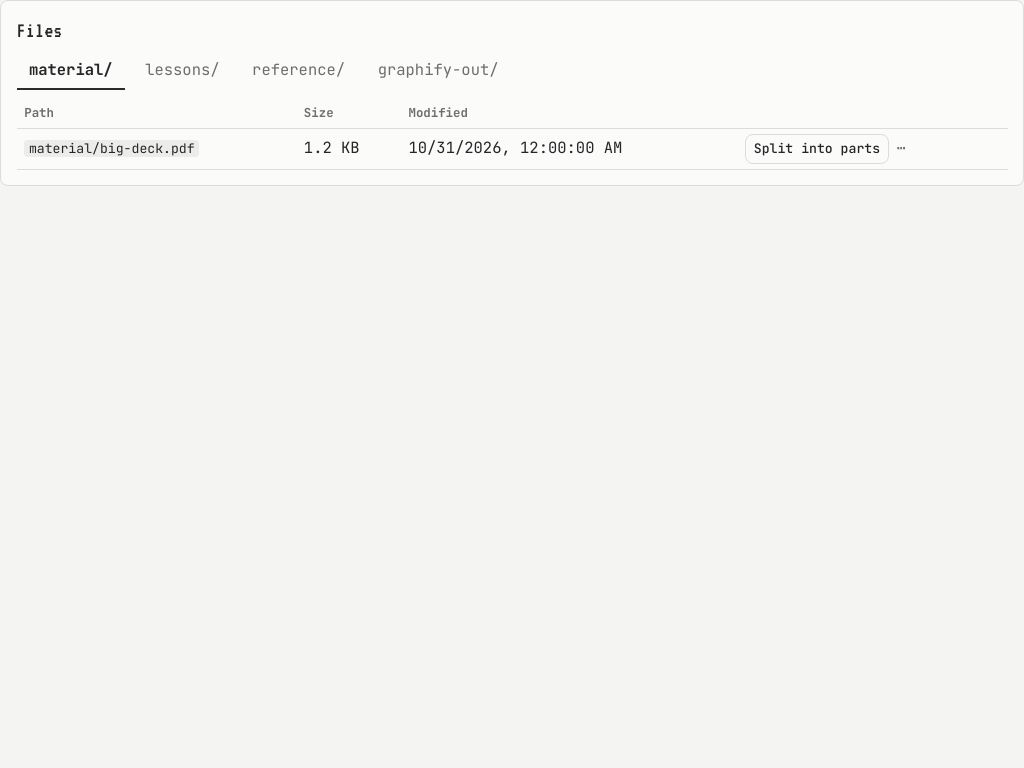
FileBrowser split action › surfaces split failures as an error banner
Click the button "Split into parts".
click(817, 149)  # box [745, 134, 889, 164]
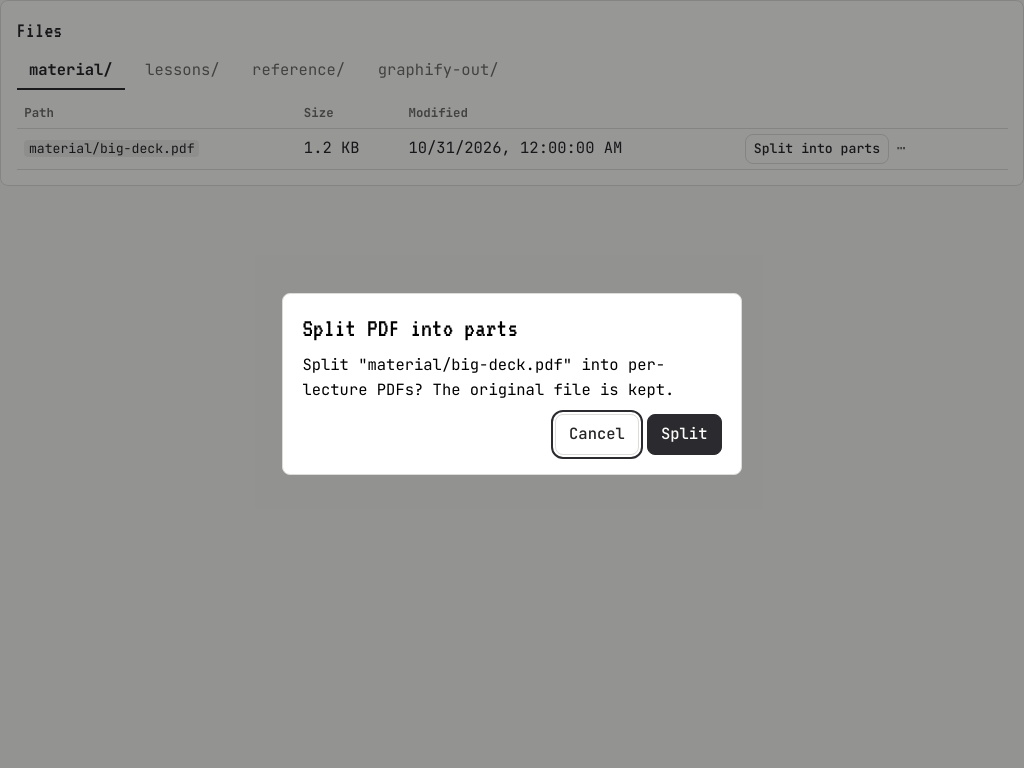
Click the button "Split".
click(684, 434)  # box [647, 414, 722, 455]
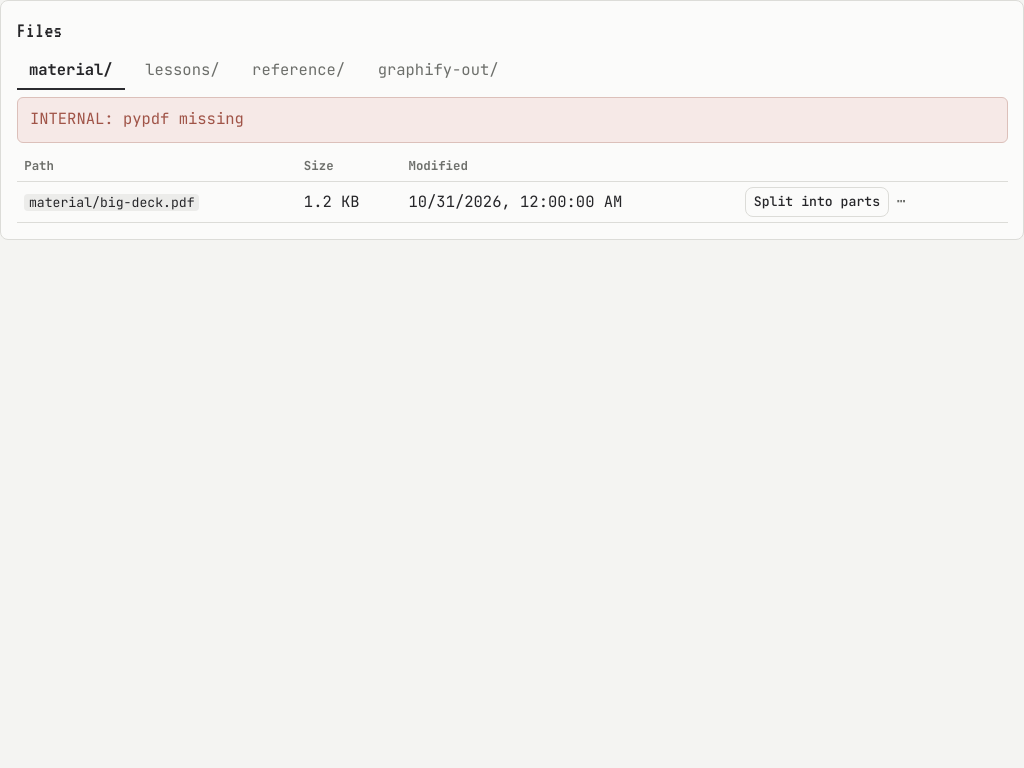
Result: the text "INTERNAL: pypdf missing" is shown at [16, 97, 1008, 142]
